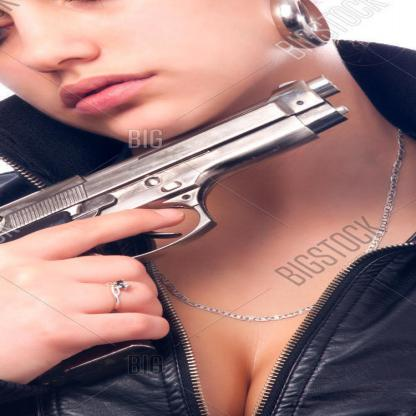gun: (0, 76, 360, 272)
